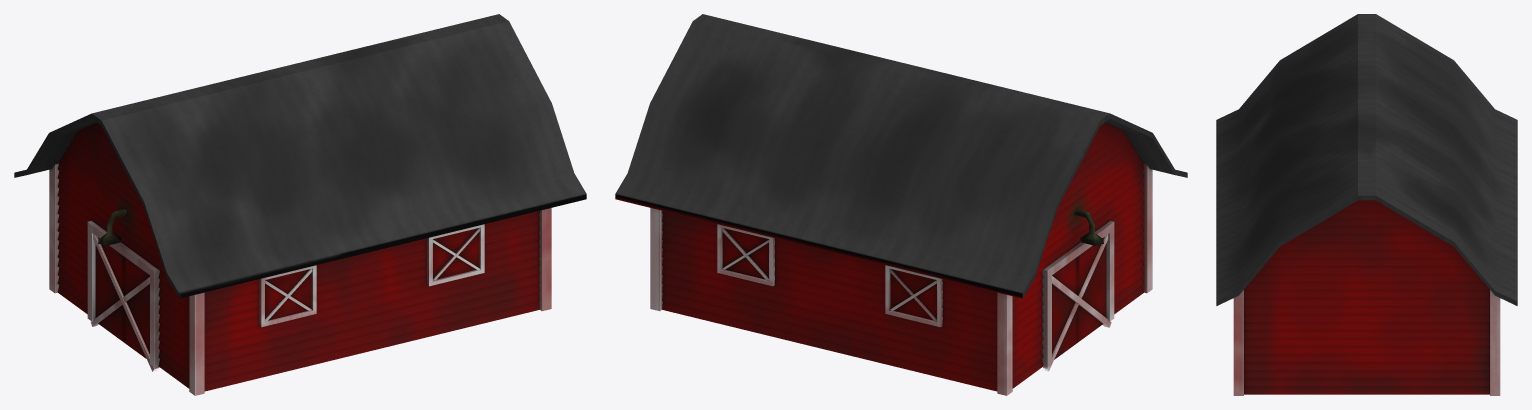
File: barn.fbx
The picture shows the model from 3 angles, left to right: view 1: azimuth 30°, elevation 25°; view 2: azimuth 150°, elevation 25°; view 3: azimuth 270°, elevation 25°; orthographic projection. The views are drawn at different scales.
Parts seen in each view (by area): view 1: Cube.001, Cube, Cube.002, Plane, Plane.001, Cube.003, Cube.006, Cube.004; view 2: Cube.001, Cube, Cube.002, Plane, Plane.001, Cube.003, Cube.006, Cube.005, Cube.004; view 3: Cube.001, Cube, Cube.002.
Boxes of the visible parts, box(x1,y1,x2,y2) form: Cube.001: box(14, 14, 586, 298); Cube: box(57, 122, 539, 391); Cube.002: box(49, 163, 551, 395); Plane: box(95, 237, 149, 358); Plane.001: box(265, 228, 479, 320); Cube.003: box(87, 220, 159, 367); Cube.006: box(259, 224, 484, 327); Cube.004: box(93, 234, 159, 371); Cube.001: box(615, 14, 1187, 298); Cube: box(662, 122, 1144, 391); Cube.002: box(650, 163, 1152, 395); Plane: box(1052, 237, 1106, 359); Plane.001: box(722, 228, 936, 320); Cube.003: box(1042, 220, 1114, 367); Cube.006: box(717, 224, 942, 327); Cube.005: box(1043, 234, 1108, 371); Cube.004: box(1052, 276, 1111, 327); Cube.001: box(1216, 14, 1517, 305); Cube: box(1244, 200, 1489, 394); Cube.002: box(1233, 290, 1500, 395).
Size of the model in its own units: 2100 by 1177 by 1472.
